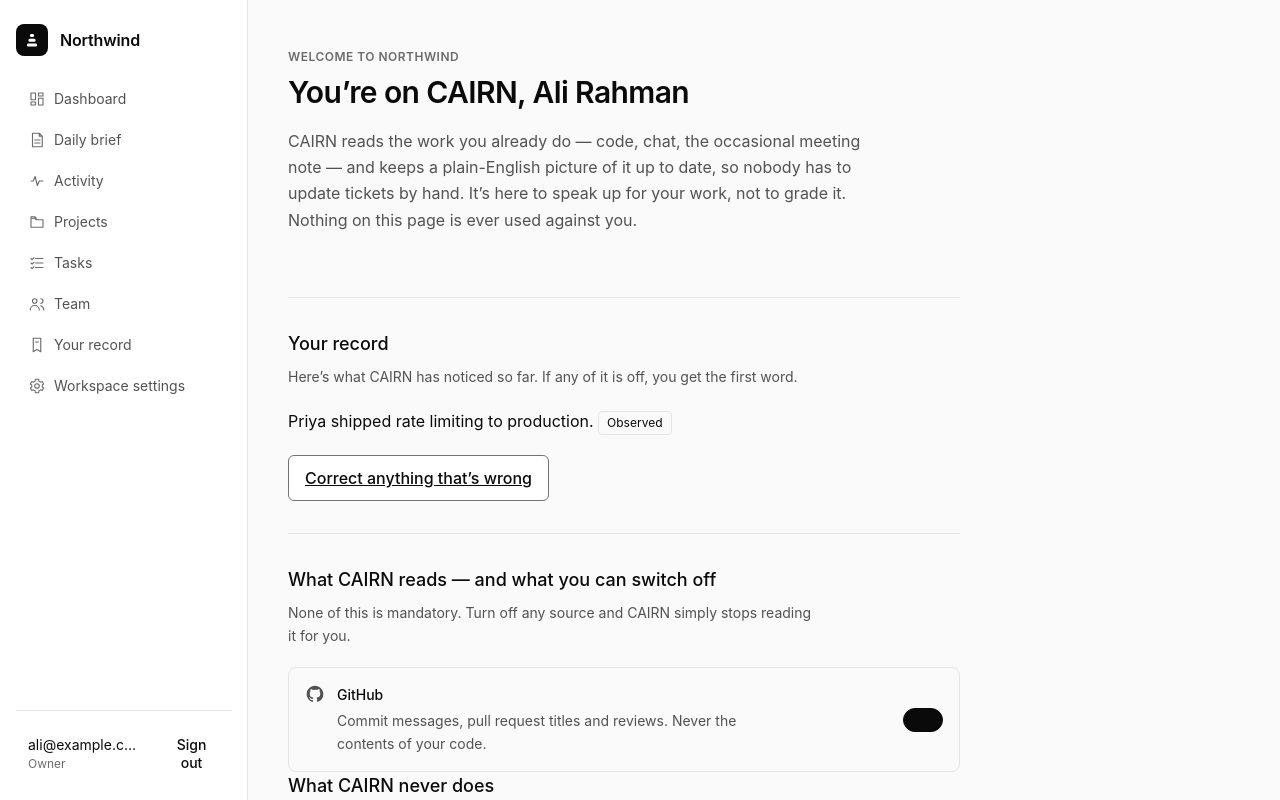
Scenario: inline per-source opt-out › is honest that opting back in does not restore what was removed
Expected: the heading "What CAIRN reads — and what you can switch off" is shown, [288,569,716,590]
Click the checkbox named "do not attribute" at [923, 720], box [903,708,943,732]
(page scrolled)
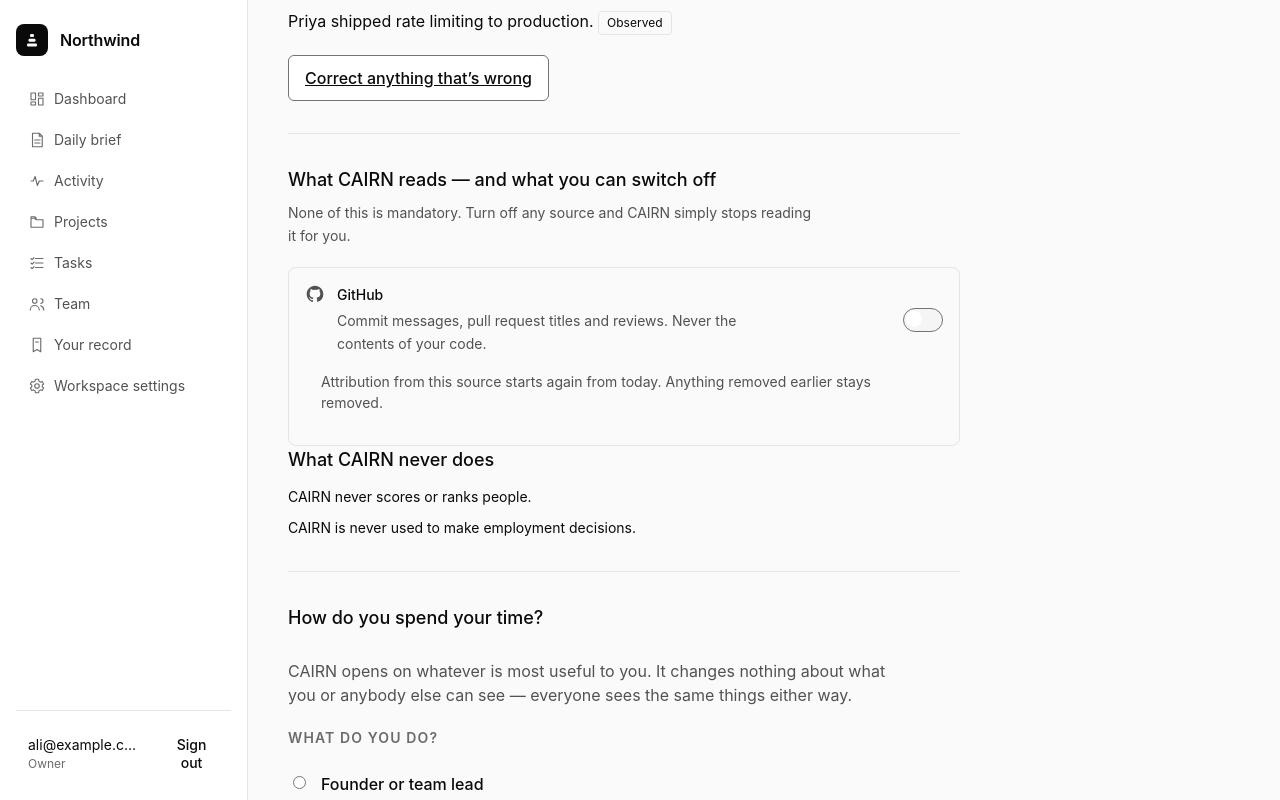
Result: the message shows "stays removed" at [321,373,871,411]
